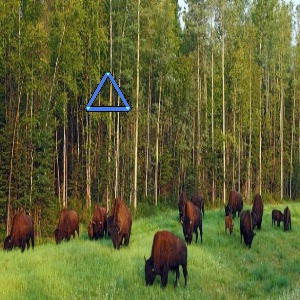triangle: (82, 68, 134, 114)
